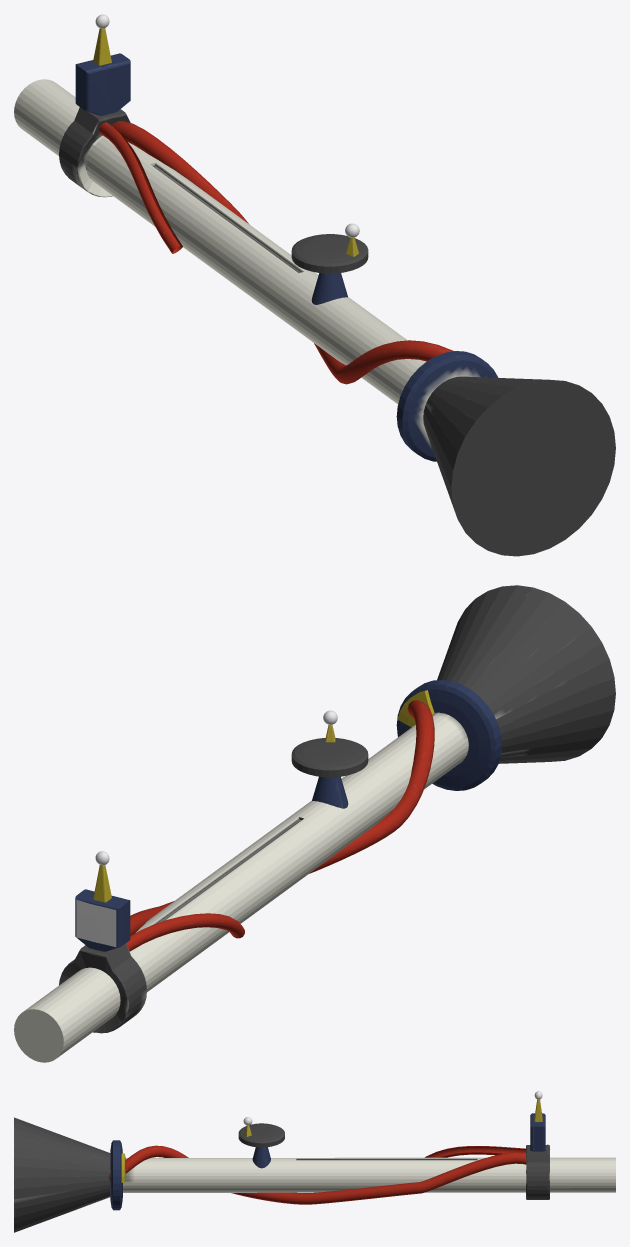
Rendered from VentiladorLvl0.fbx.
The picture shows the model from 3 angles, top to bottom: view 1: azimuth 30°, elevation 25°; view 2: azimuth 150°, elevation 25°; view 3: azimuth 270°, elevation 25°; orthographic projection. The views are drawn at different scales.
Visible parts, largest first — view 1: Cylinder, Cylinder.006; view 2: Cylinder, Cylinder.006; view 3: Cylinder, Cylinder.006.
Part boxes in pixels (x1,y1,x2,y2): Cylinder: [14, 14, 615, 556]; Cylinder.006: [291, 223, 368, 273]; Cylinder: [14, 585, 615, 1062]; Cylinder.006: [291, 710, 368, 777]; Cylinder: [14, 1091, 615, 1232]; Cylinder.006: [238, 1117, 284, 1147].
Size of the model in its own units: 59.4 by 77.12 by 309.
